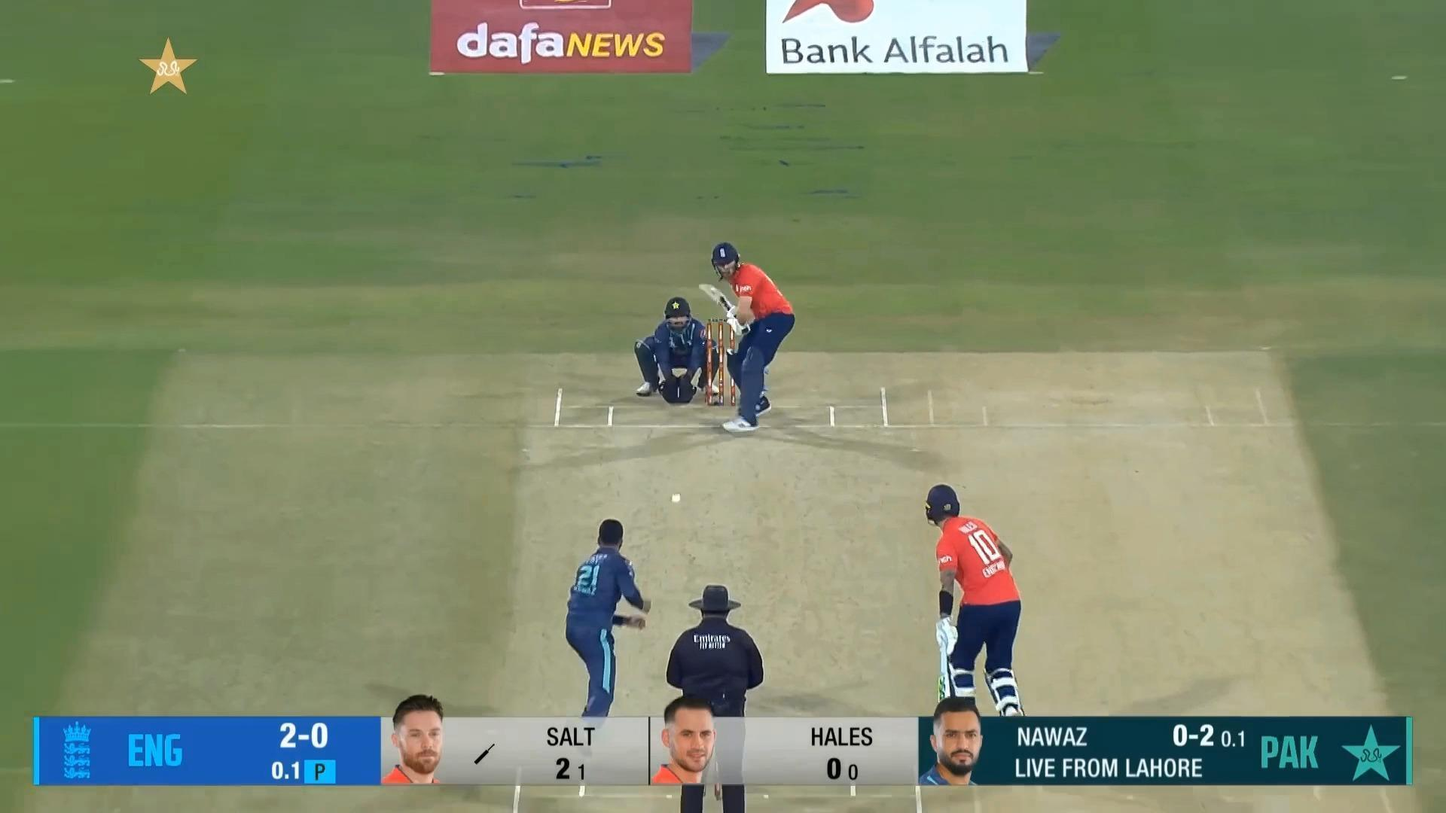BM 1: (709, 237, 799, 439)
BO: (564, 518, 652, 757)
